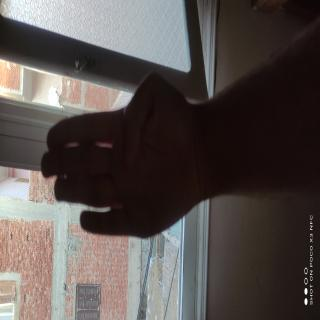KAAF: (34, 82, 113, 320)
